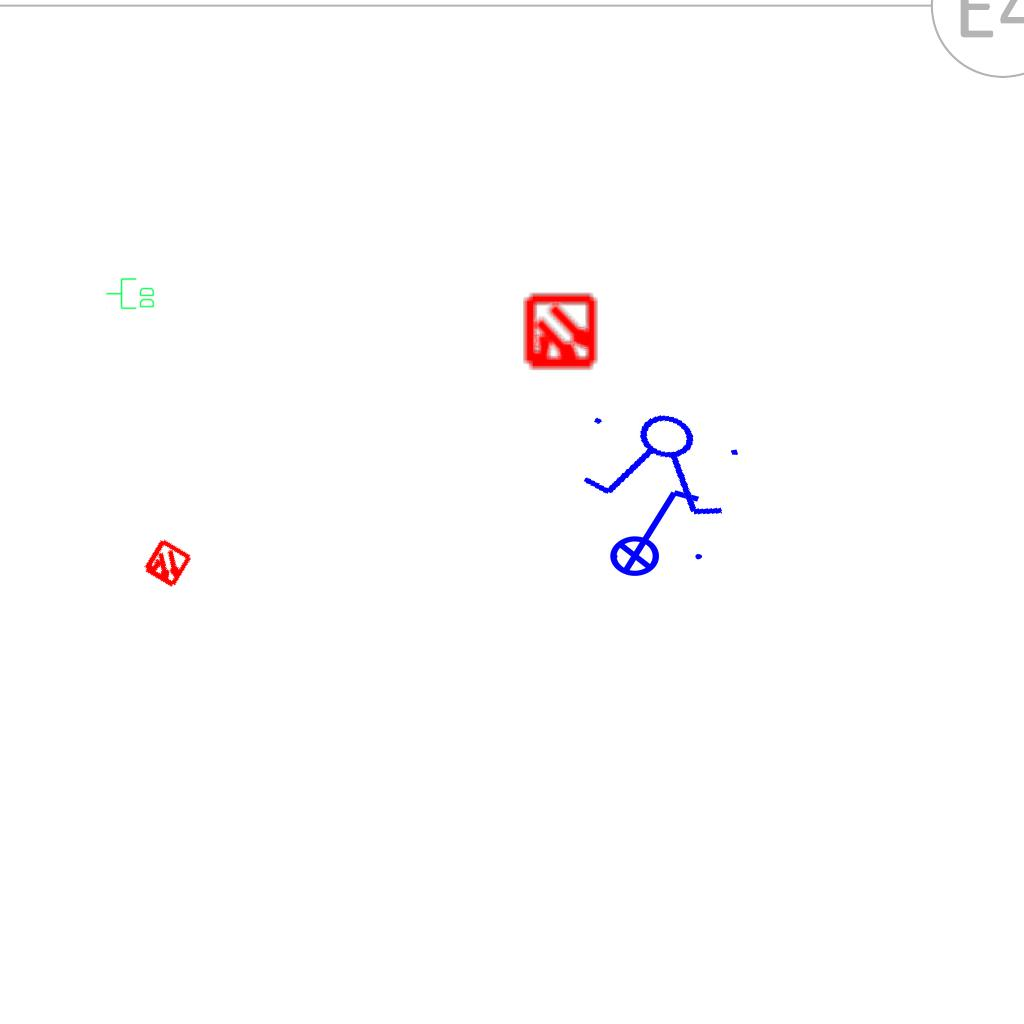Ausschalter_beleuchtet: (596, 482, 708, 578)
Datenanschluss_zweifach: (105, 277, 156, 311)
OT_Multisensormelder_(Kombination_RMO_WMD): (504, 277, 617, 390), (128, 525, 206, 603)
Serienschalter: (569, 396, 755, 528)
